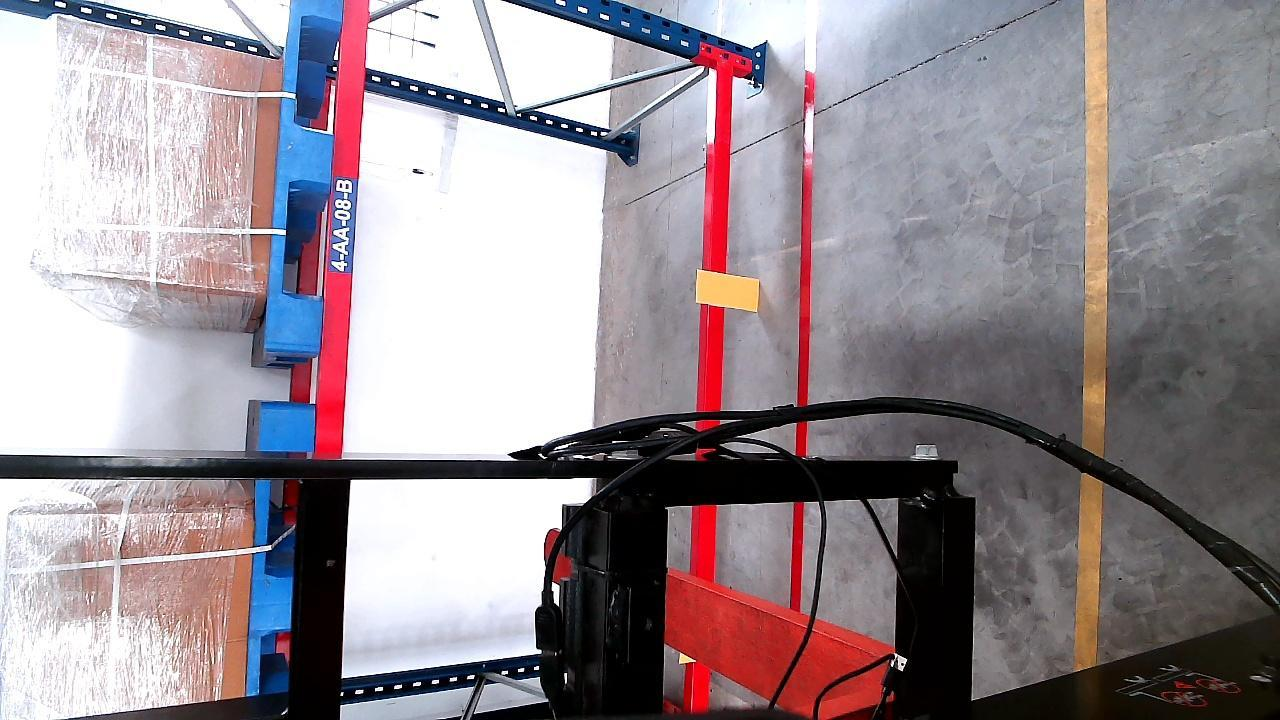red_line: (788, 0, 817, 610)
yellow_line: (1078, 0, 1105, 673)
